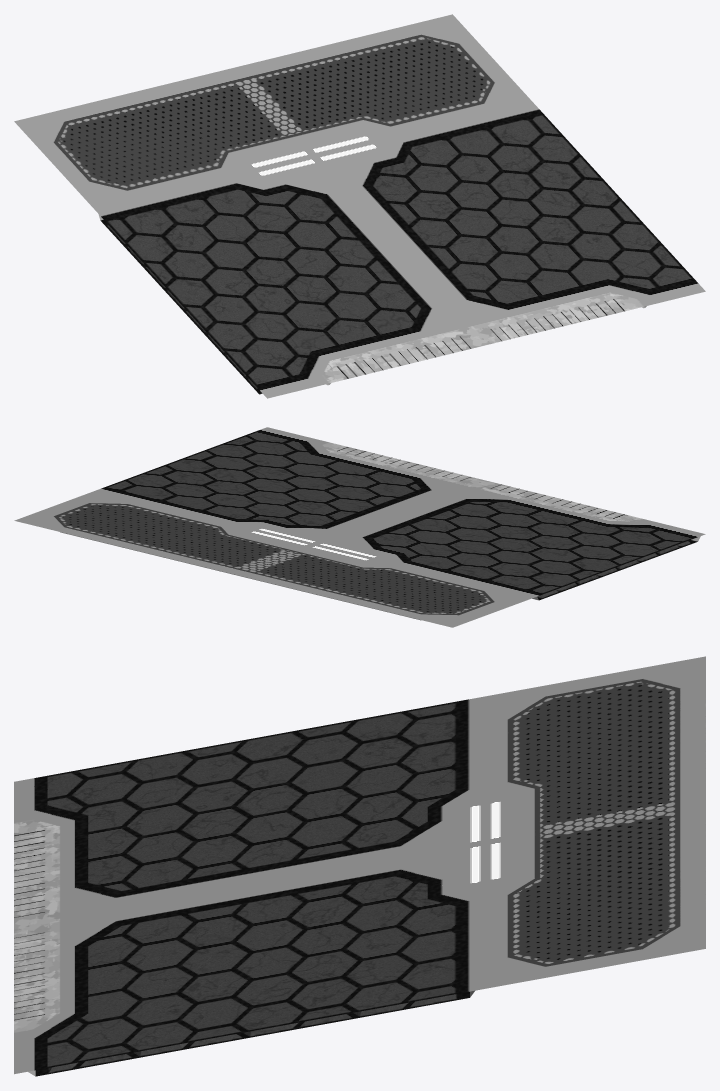
Rendered from Arena_RampA.fbx.
The picture shows the model from 3 angles, top to bottom: view 1: azimuth 30°, elevation 25°; view 2: azimuth 150°, elevation 25°; view 3: azimuth 270°, elevation 25°; orthographic projection. The views are drawn at different scales.
Parts seen in each view (by area): view 1: RampA_Low, RampA_Med; view 2: RampA_Low, RampA_Med; view 3: RampA_Low, RampA_Med.
Part boxes in pixels (x1=…): RampA_Low: x1=14, y1=14, x2=705, y2=398; RampA_Med: x1=16, y1=15, x2=704, y2=397; RampA_Low: x1=14, y1=427, x2=705, y2=627; RampA_Med: x1=15, y1=427, x2=704, y2=627; RampA_Low: x1=14, y1=656, x2=705, y2=1073; RampA_Med: x1=14, y1=657, x2=705, y2=1076.
Bounding box in the file's own units: 25 × 5.09 × 25.
